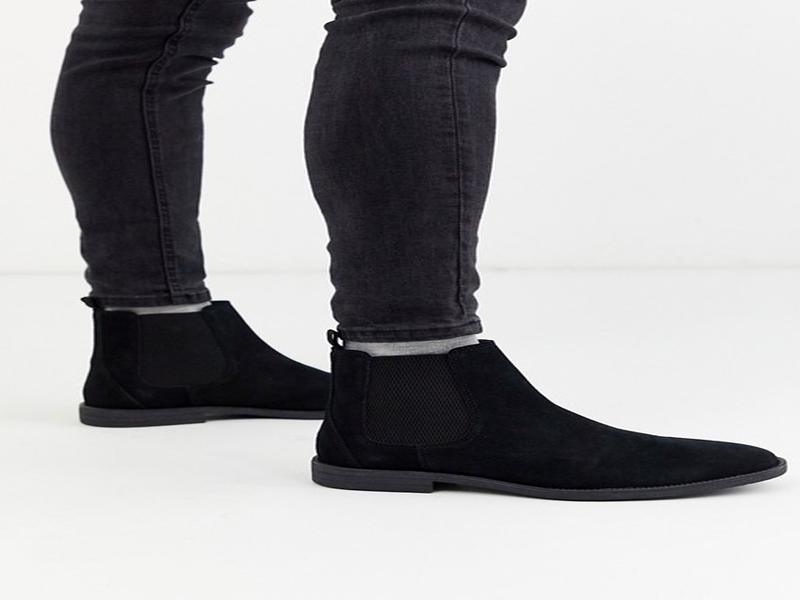shoes_men_chelsea_chelseaboots_suede_none_none_black_none: (304, 325, 796, 520), (65, 305, 327, 426)
